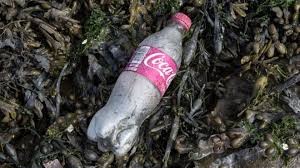Coca-Cola: (132, 44, 178, 96), (140, 51, 180, 73), (157, 68, 180, 84)
bottle: (87, 12, 193, 155)
plastic: (88, 6, 194, 146)
